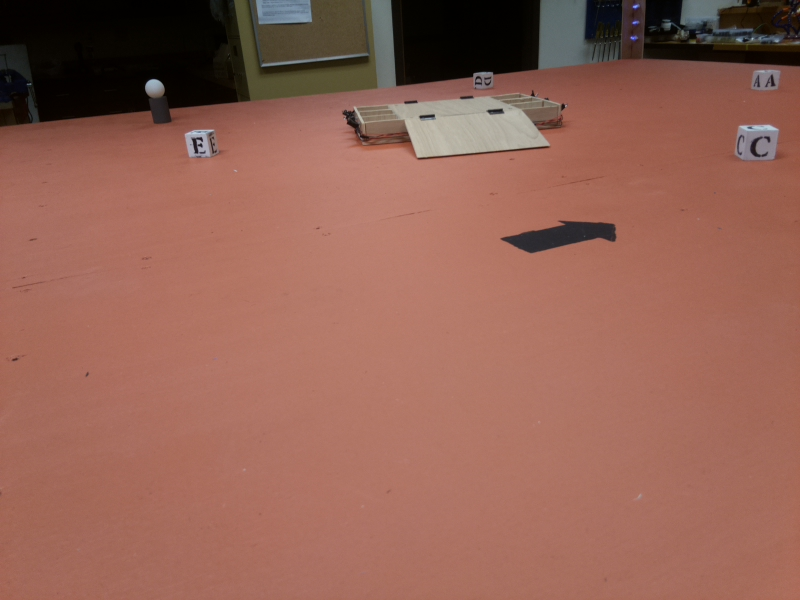blockA: (752, 69, 779, 94)
blockC: (731, 123, 779, 160)
blockD: (470, 70, 494, 88)
blockE: (182, 128, 222, 160)
obstacle: (138, 79, 180, 124)
side: (528, 87, 569, 113), (348, 109, 364, 140)
slope: (407, 108, 551, 163), (391, 96, 488, 102)
start: (489, 218, 617, 256)
